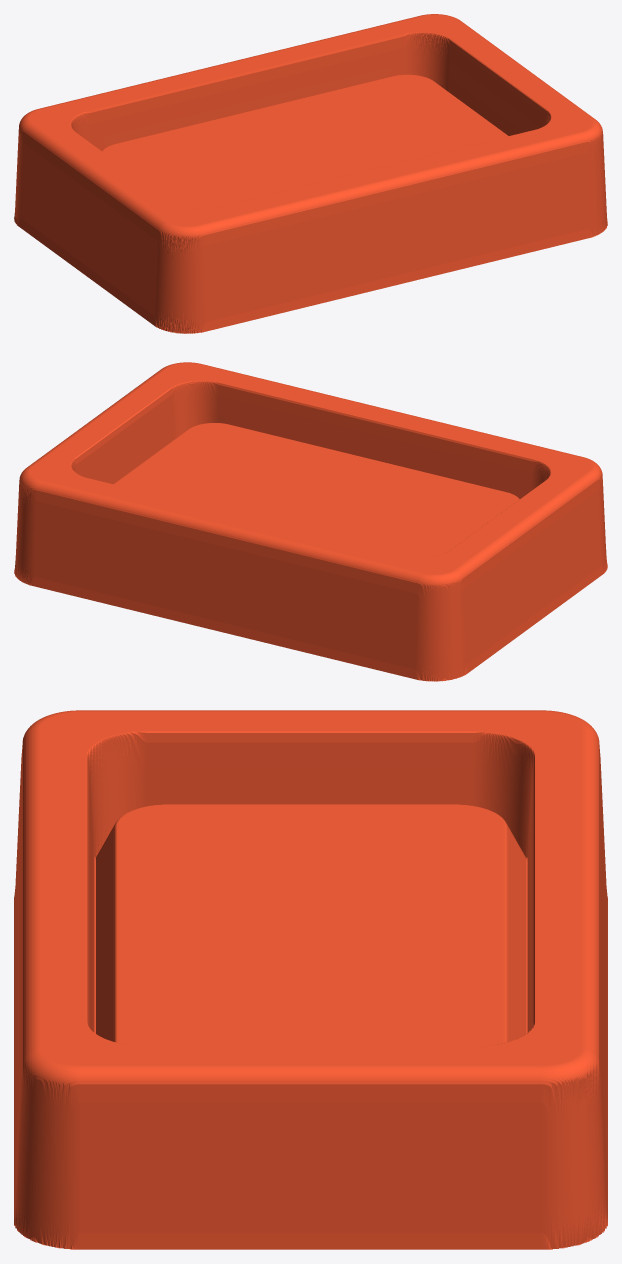
File: mold.glb
3 renders of one model, top to bottom at view 1: azimuth 30°, elevation 25°; view 2: azimuth 150°, elevation 25°; view 3: azimuth 270°, elevation 25°, orthographic. The views are drawn at different scales.
Parts seen in each view (by area): view 1: geometry_0; view 2: geometry_0; view 3: geometry_0.
Boxes of the visible parts, <box> form: geometry_0: <box>14,14,607,333</box>; geometry_0: <box>14,362,607,681</box>; geometry_0: <box>14,710,607,1249</box>.
Bounding box in the file's own units: 0.1219 × 0.0262 × 0.0815.
